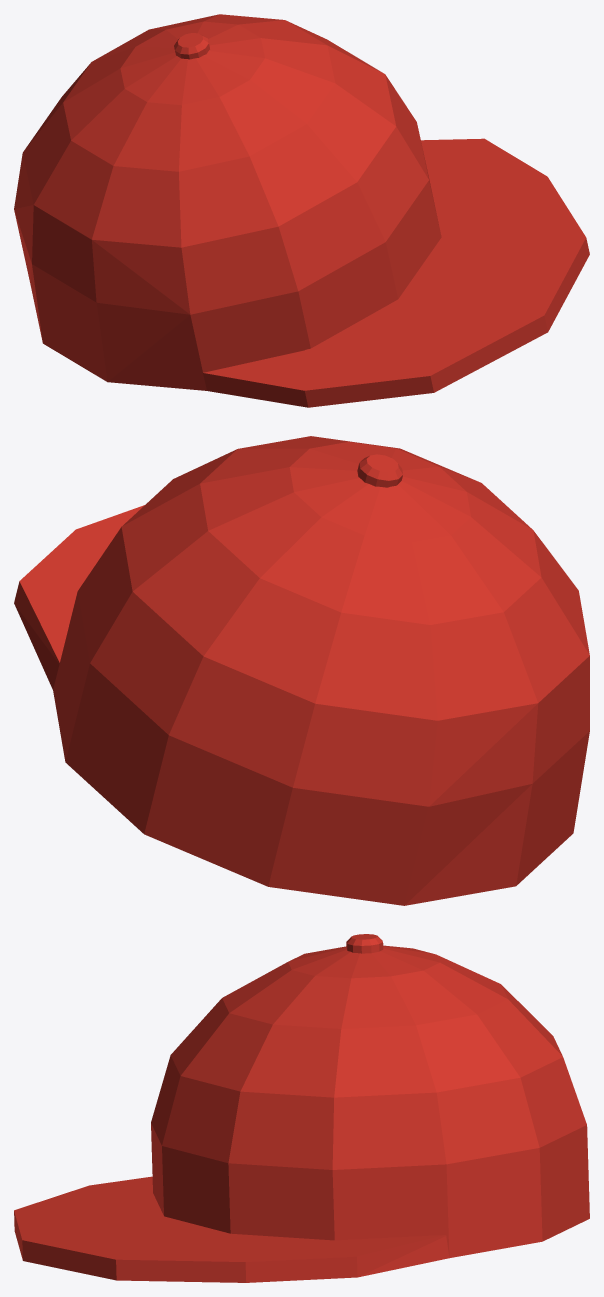
File: baseball.glb
3 renders of one model, top to bottom at view 1: azimuth 30°, elevation 25°; view 2: azimuth 150°, elevation 25°; view 3: azimuth 270°, elevation 25°, orthographic. The views are drawn at different scales.
Parts seen in each view (by area): view 1: node_MeshObject-921512320-PolyPaper8; view 2: node_MeshObject-921512320-PolyPaper8; view 3: node_MeshObject-921512320-PolyPaper8.
Part boxes in pixels (<box>): node_MeshObject-921512320-PolyPaper8: <box>14,14,589,407</box>; node_MeshObject-921512320-PolyPaper8: <box>14,436,589,905</box>; node_MeshObject-921512320-PolyPaper8: <box>14,934,589,1282</box>.
Size of the model in its own units: 0.9963 by 0.6251 by 1.08.
